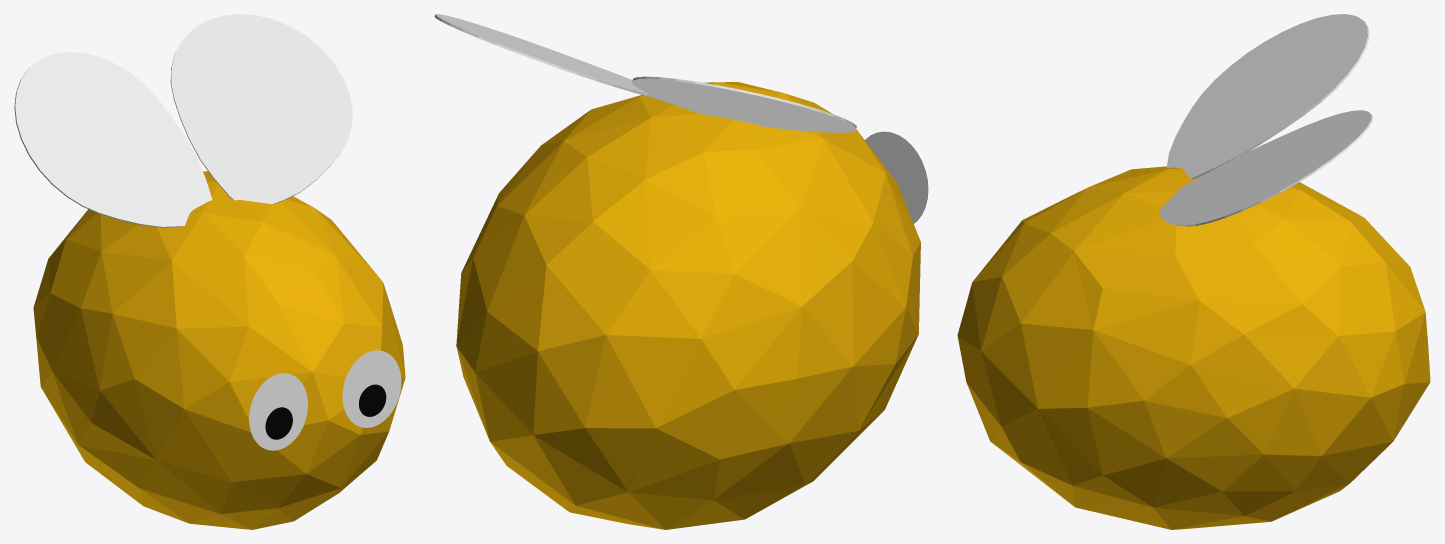
The model's file is UntitledBee.fbx.
3 views of the same model, side by side, from view 1: azimuth 30°, elevation 25°; view 2: azimuth 150°, elevation 25°; view 3: azimuth 270°, elevation 25° (orthographic). The views are drawn at different scales.
Visible parts, largest first — view 1: Icosphere, Circle.001, Circle.002, Circle.004; view 2: Icosphere, Circle.002, Circle.001, Circle.004; view 3: Icosphere, Circle.002, Circle.001.
Boxes of the visible parts, <box> form: Icosphere: <box>33,171,405,529</box>; Circle.001: <box>170,14,352,204</box>; Circle.002: <box>14,52,212,227</box>; Circle.004: <box>249,350,401,450</box>; Icosphere: <box>456,82,920,529</box>; Circle.002: <box>632,76,856,132</box>; Circle.001: <box>434,14,663,100</box>; Circle.004: <box>865,131,928,223</box>; Icosphere: <box>957,166,1430,529</box>; Circle.002: <box>1167,14,1369,178</box>; Circle.001: <box>1160,110,1372,226</box>.
Size of the model in its own units: 52.76 by 66.65 by 64.85.
